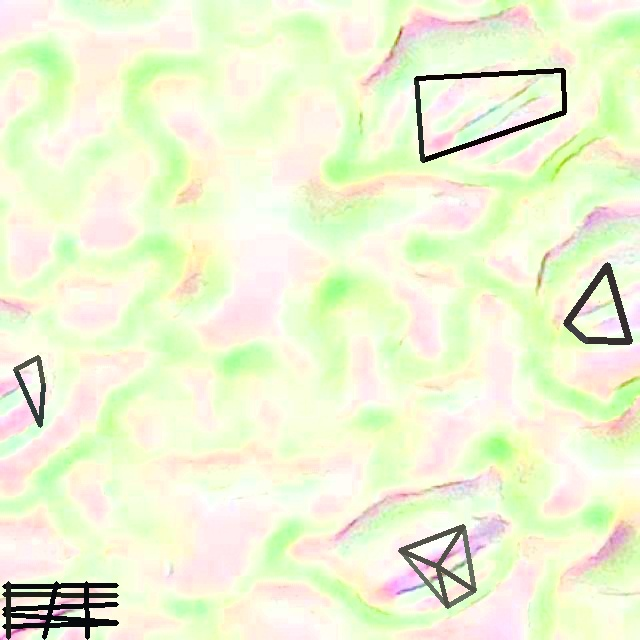open: (414, 69, 566, 161), (2, 581, 118, 639), (399, 525, 475, 607), (563, 262, 632, 343), (13, 355, 45, 427)
